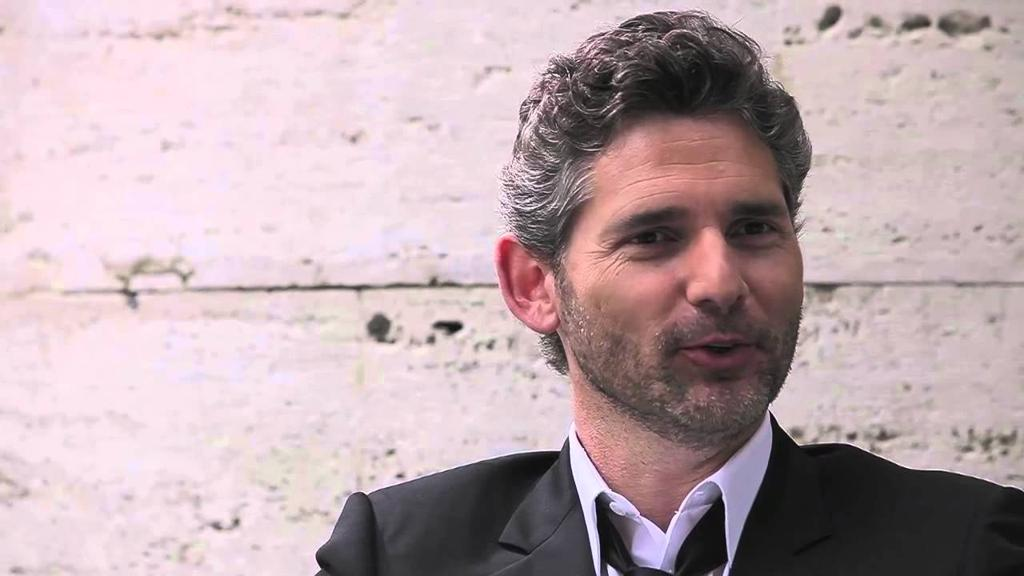face: (562, 120, 804, 442)
